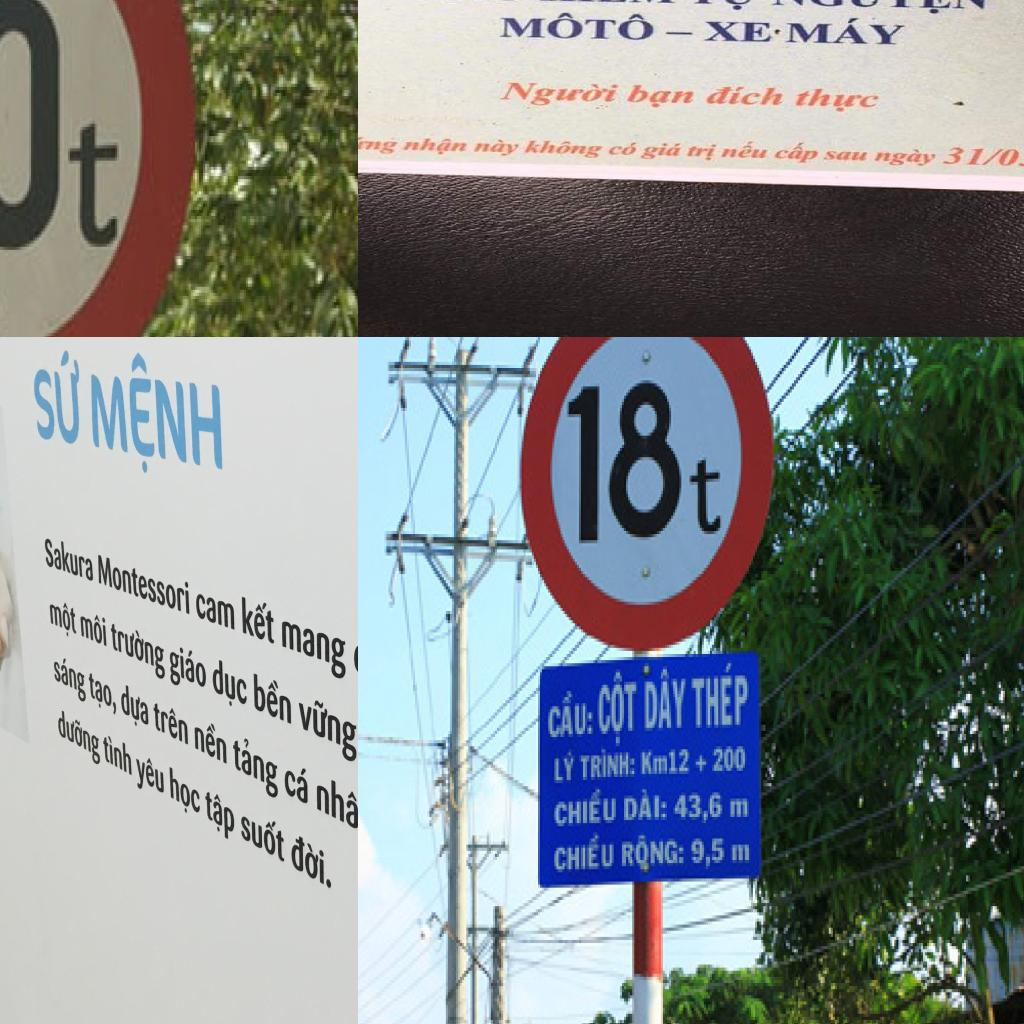text: (0, 0, 121, 262), (564, 374, 684, 556), (86, 355, 226, 482), (98, 550, 191, 620), (496, 9, 660, 44), (294, 683, 358, 772), (26, 350, 83, 449), (689, 660, 749, 737), (281, 614, 346, 680), (686, 442, 728, 540), (782, 17, 911, 47), (494, 80, 624, 109), (230, 730, 280, 804), (236, 799, 286, 873), (312, 766, 358, 844), (770, 0, 994, 16), (640, 666, 690, 737), (111, 619, 165, 682), (52, 700, 102, 768), (550, 786, 620, 832), (598, 670, 638, 750), (552, 832, 618, 878), (546, 688, 595, 746), (40, 530, 93, 582), (787, 87, 889, 114), (248, 666, 293, 726), (620, 832, 687, 872), (199, 782, 236, 848), (209, 657, 248, 717), (150, 697, 192, 751), (620, 83, 703, 110), (168, 639, 208, 695), (166, 759, 201, 822), (238, 590, 276, 648), (701, 85, 796, 108), (577, 746, 636, 783), (620, 786, 669, 829), (194, 586, 235, 635), (51, 648, 86, 704), (134, 746, 165, 808), (522, 138, 608, 160), (673, 789, 724, 826), (193, 715, 228, 768), (700, 20, 776, 44), (120, 677, 150, 737), (640, 746, 692, 780), (870, 146, 946, 169), (101, 730, 133, 782), (84, 670, 118, 718), (46, 595, 77, 644), (399, 137, 471, 158), (710, 740, 749, 777), (770, 140, 825, 166), (690, 836, 728, 872), (282, 754, 308, 806), (718, 140, 777, 162), (78, 608, 108, 651), (470, 137, 524, 160), (535, 0, 679, 7), (552, 746, 577, 786), (684, 0, 766, 12), (358, 134, 404, 155), (638, 142, 687, 161), (684, 142, 722, 163), (820, 150, 872, 164), (728, 796, 751, 826), (605, 140, 642, 157), (694, 752, 710, 774)
